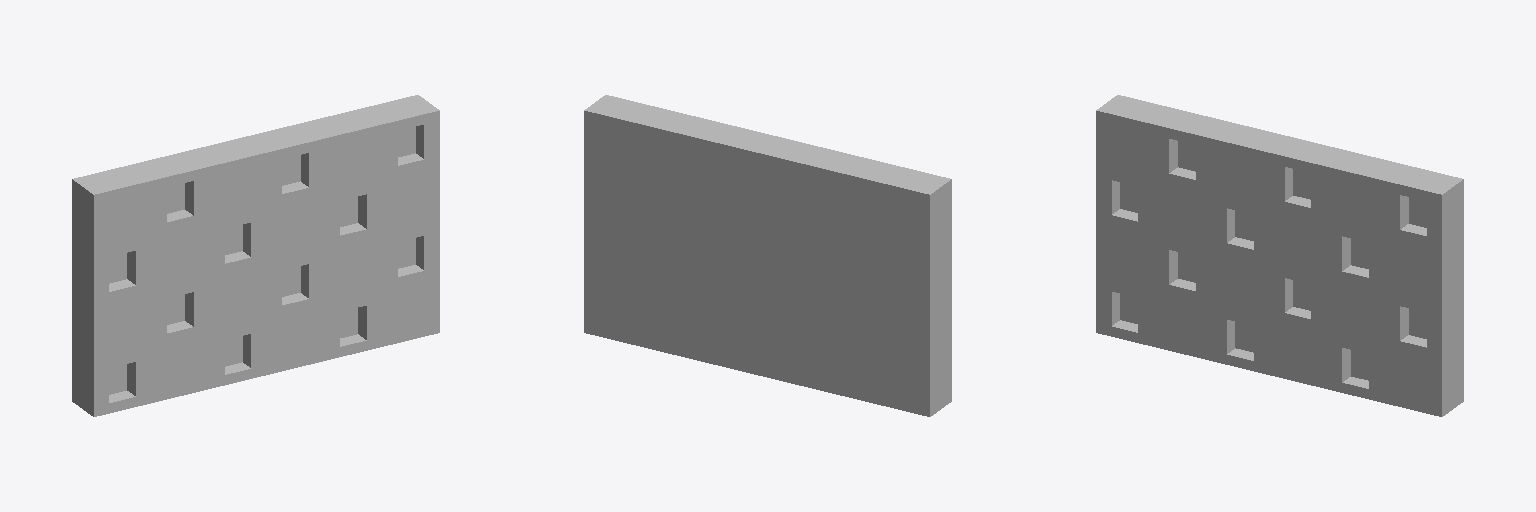
File: modelo.obj
3 renders of one model, left to right at view 1: azimuth 30°, elevation 25°; view 2: azimuth 150°, elevation 25°; view 3: azimuth 330°, elevation 25°, orthographic.
Parts seen in each view (by area): view 1: Cube; view 2: Cube; view 3: Cube.
Boxes of the visible parts, x1,y1,x2,y2 form: Cube: [72, 95, 439, 416]; Cube: [584, 95, 951, 416]; Cube: [1096, 95, 1463, 416].
Bounding box in the file's own units: 18.45 × 11.33 × 2.